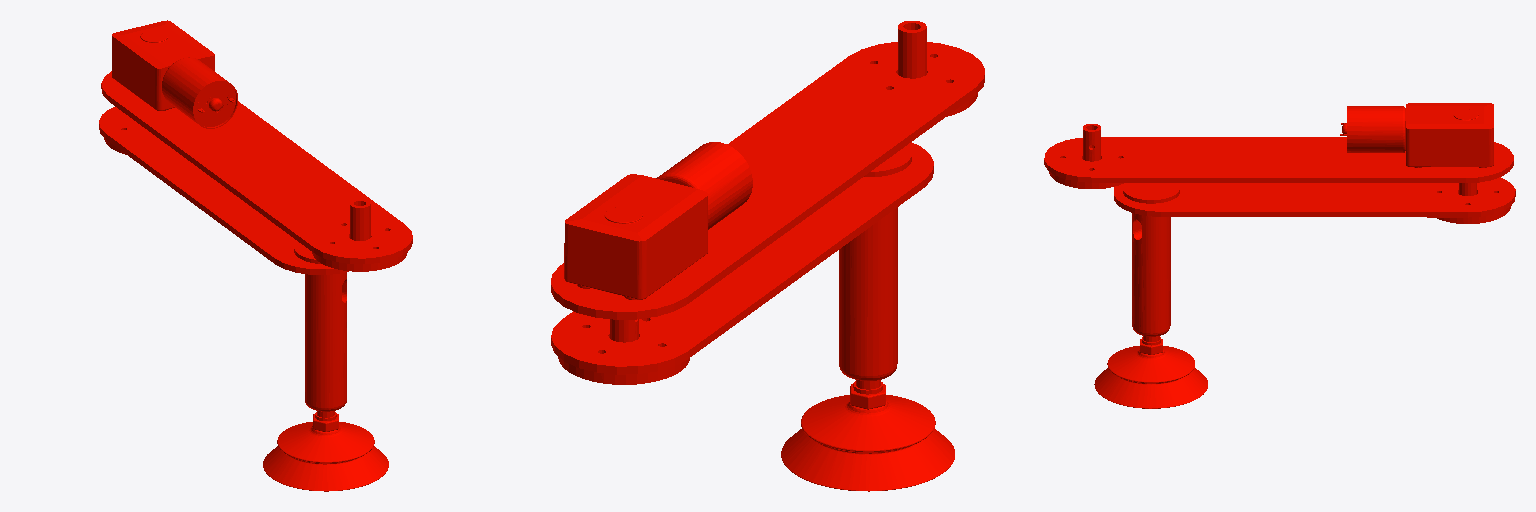
robot.urdf — assem1:
<?xml version="1.0" ?>
<!-- =================================================================================== -->
<!-- |    This document was autogenerated by xacro from /home/mohamed/mobile_ws/src/assem1_description/urdf/assem1.urdf.xacro | -->
<!-- |    EDITING THIS FILE BY HAND IS NOT RECOMMENDED                                 | -->
<!-- =================================================================================== -->
<robot name="assem1">
  <material name="silver">
    <color rgba="0.776 0.756 0.737 1"/>
  </material>
  <material name="dark_gray">
    <color rgba="0.3 0.3 0.3 1"/>
  </material>
  <material name="red_arm">
    <color rgba="0.988 0.082 0 1"/>
  </material>
  <link name="world"/>
  <link name="base_link">
    <inertial>
      <origin rpy="0 0 0" xyz="0 0 0"/>
      <mass value="10"/>
      <inertia ixx="0.1" ixy="0" ixz="0" iyy="0.1" iyz="0" izz="0.1"/>
    </inertial>
    <visual>
      <geometry>
        <mesh filename="package://assem1_description/meshes/base_link.STL"/>
      </geometry>
      <material name="silver"/>
    </visual>
    <collision>
      <geometry>
        <mesh filename="package://assem1_description/meshes/base_link.STL"/>
      </geometry>
    </collision>
  </link>
  <joint name="virtual_joint" type="fixed">
    <parent link="world"/>
    <child link="base_link"/>
    <origin rpy="0 0 0" xyz="0 0 0"/>
  </joint>
  <link name="arm_link1">
    <inertial>
      <origin rpy="0 0 0" xyz="0 0 0"/>
      <mass value="1"/>
      <inertia ixx="0.001" ixy="0" ixz="0" iyy="0.001" iyz="0" izz="0.001"/>
    </inertial>
    <visual>
      <geometry>
        <mesh filename="package://assem1_description/meshes/Armlink1.STL"/>
      </geometry>
      <material name="red_arm"/>
    </visual>
    <collision>
      <geometry>
        <mesh filename="package://assem1_description/meshes/Armlink1.STL"/>
      </geometry>
    </collision>
  </link>
  <link name="arm_link2">
    <inertial>
      <origin rpy="0 0 0" xyz="0 0 0"/>
      <mass value="1"/>
      <inertia ixx="0.001" ixy="0" ixz="0" iyy="0.001" iyz="0" izz="0.001"/>
    </inertial>
    <visual>
      <geometry>
        <mesh filename="package://assem1_description/meshes/armlink2.STL"/>
      </geometry>
      <material name="red_arm"/>
    </visual>
    <collision>
      <geometry>
        <mesh filename="package://assem1_description/meshes/armlink2.STL"/>
      </geometry>
    </collision>
  </link>
  <joint name="joint_1" type="revolute">
    <origin rpy="0 0 0" xyz="0 0.07 0.5"/>
    <parent link="base_link"/>
    <child link="arm_link1"/>
    <axis xyz="0 0 1"/>
    <limit effort="100" lower="-0.785" upper="0.785" velocity="3"/>
  </joint>
  <joint name="joint_2" type="revolute">
    <origin rpy="0 0 0" xyz="0 0.196 -0.02"/>
    <parent link="arm_link1"/>
    <child link="arm_link2"/>
    <axis xyz="0 0 1"/>
    <limit effort="100" lower="-3.14" upper="3.14" velocity="3"/>
  </joint>
  <gazebo>
    <plugin filename="ign_ros2_control-system" name="ign_ros2_control::IgnitionROS2ControlPlugin">
      <parameters>/home/mohamed/mobile_ws/install/assem1_controller/share/assem1_controller/config/assem1_controllers.yaml</parameters>
    </plugin>
    <plugin filename="ignition-gazebo-sensors-system" name="ignition::gazebo::systems::Sensors">
      <render_engine>ogre2</render_engine>
    </plugin>
  </gazebo>
  <ros2_control name="RobotSystem" type="system">
    <hardware>
      <plugin>ign_ros2_control/IgnitionSystem</plugin>
    </hardware>
    <joint name="joint_1">
      <command_interface name="position">
        <param name="min">-0.785</param>
        <param name="max">0.785</param>
      </command_interface>
      <state_interface name="position"/>
    </joint>
    <joint name="joint_2">
      <command_interface name="position">
        <param name="min">-3.14</param>
        <param name="max">3.14</param>
      </command_interface>
      <state_interface name="position"/>
    </joint>
  </ros2_control>
</robot>

--- Facts derived from the render (not from the file) ---
3 views of the same robot in one strip: view 1: azimuth 30°, elevation 25°; view 2: azimuth 150°, elevation 25°; view 3: azimuth 270°, elevation 25° (orthographic).
Robot: assem1 — 4 links, 3 joints (2 revolute, 1 fixed); root link world; default pose: all joints at 0.
Links seen in each view (by area): view 1: arm_link1, arm_link2; view 2: arm_link1, arm_link2; view 3: arm_link1, arm_link2.
Link boxes in pixels (x1,y1,x2,y2): arm_link1: (101, 20, 412, 271); arm_link2: (99, 107, 388, 491); arm_link1: (551, 21, 984, 319); arm_link2: (551, 142, 954, 491); arm_link1: (1044, 103, 1513, 188); arm_link2: (1094, 177, 1515, 408).
Bounding box of the posed robot: 0.0594 × 0.2455 × 0.1586 m (x, y, z).
2 mesh visuals loaded from 3 distinct referenced files (2 binary STL); not drawn: 1 (reference not matched to a file when rendering).
